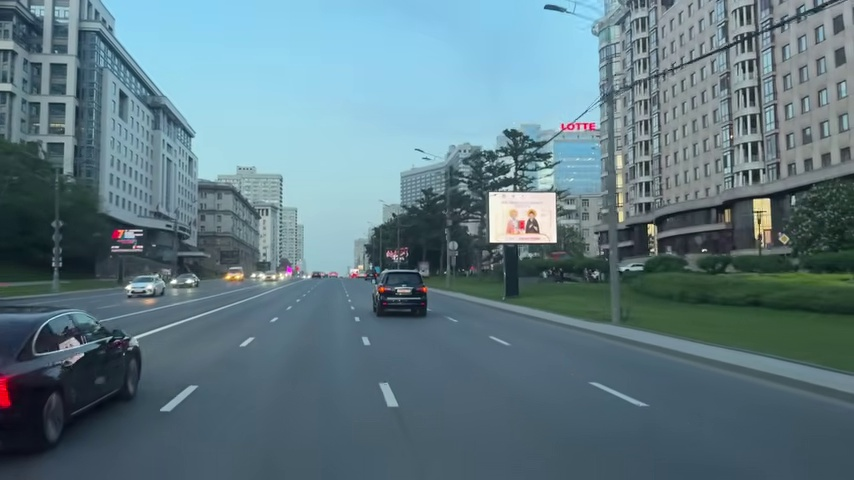apagada: (161, 382, 199, 416)
